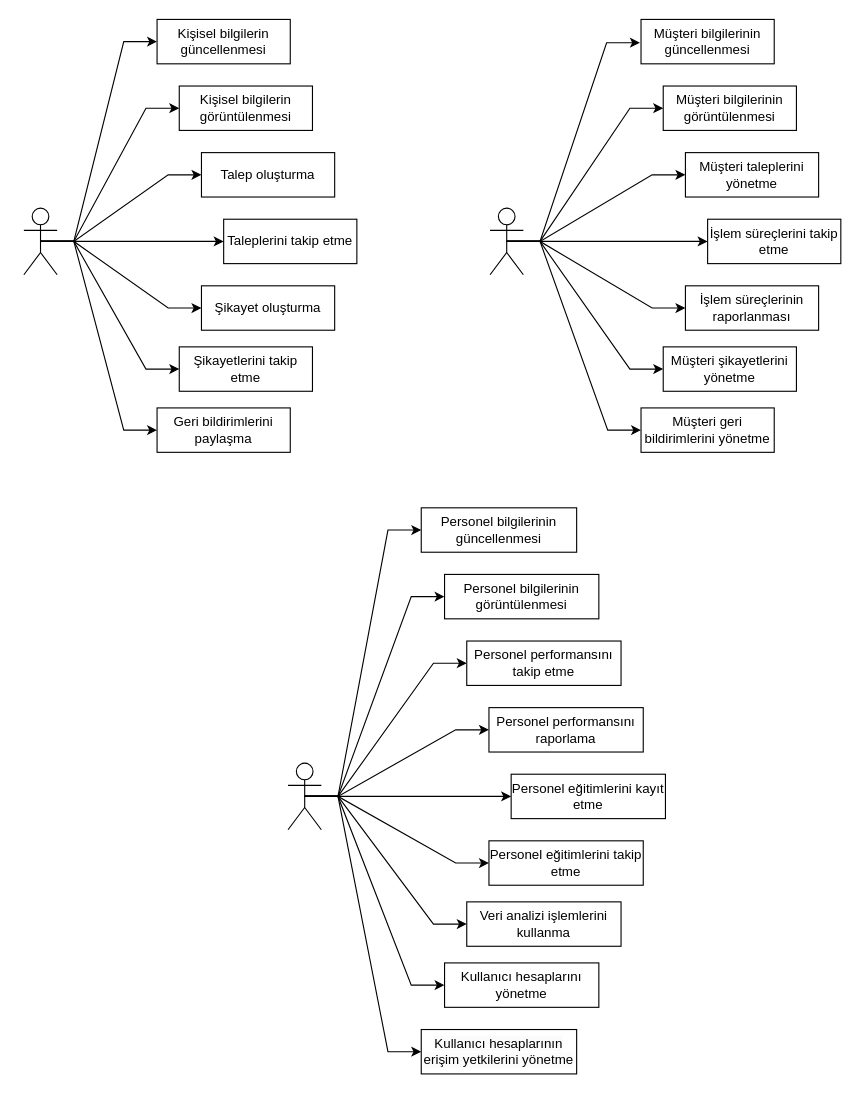
Image size: 860x1093. Some labels were removed from this diagram. Each missing label, with the centre of its shape:
"Müşteri" belongs at point 40,241.
"Personel" belongs at point 506,241.
"Yönetici" belongs at point 304,796.
